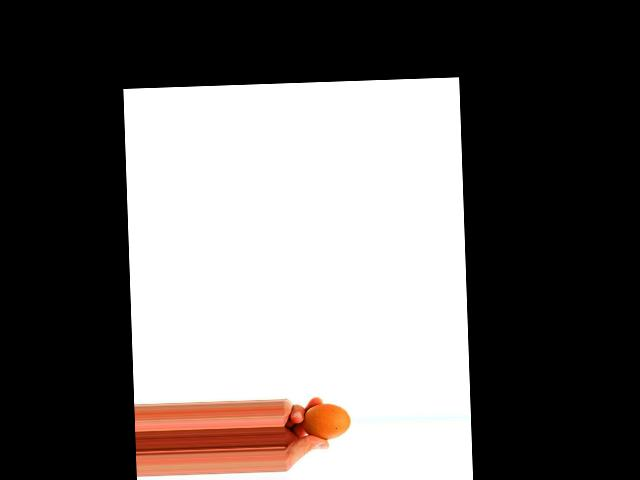egg: (302, 402, 351, 440)
